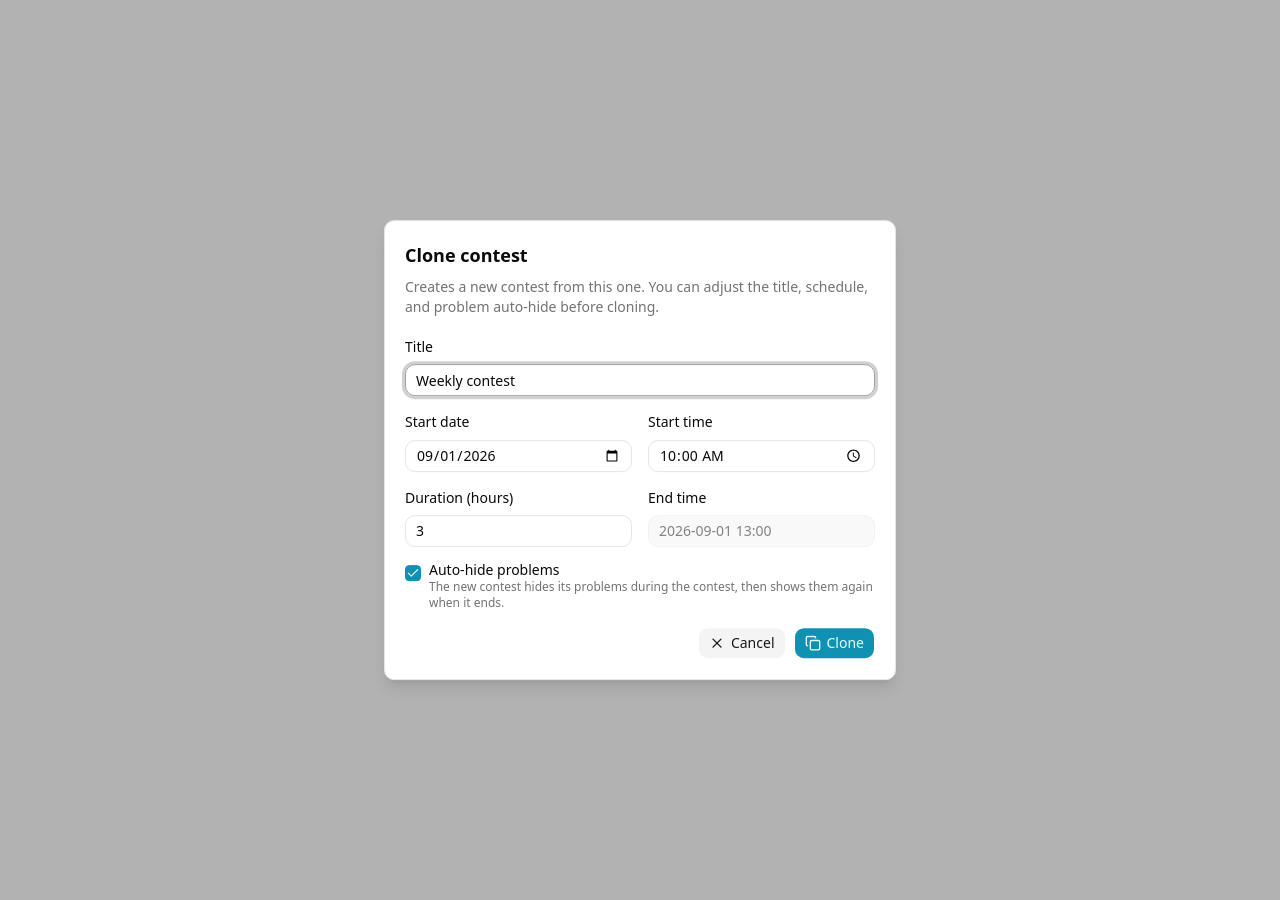
contest clone dialog › updates the end time preview while editing
The image size is (1280, 900).
Replace the text in the number field labelled "Duration (hours)" with "1.5". click: [518, 531]
box: [405,515,632,547]
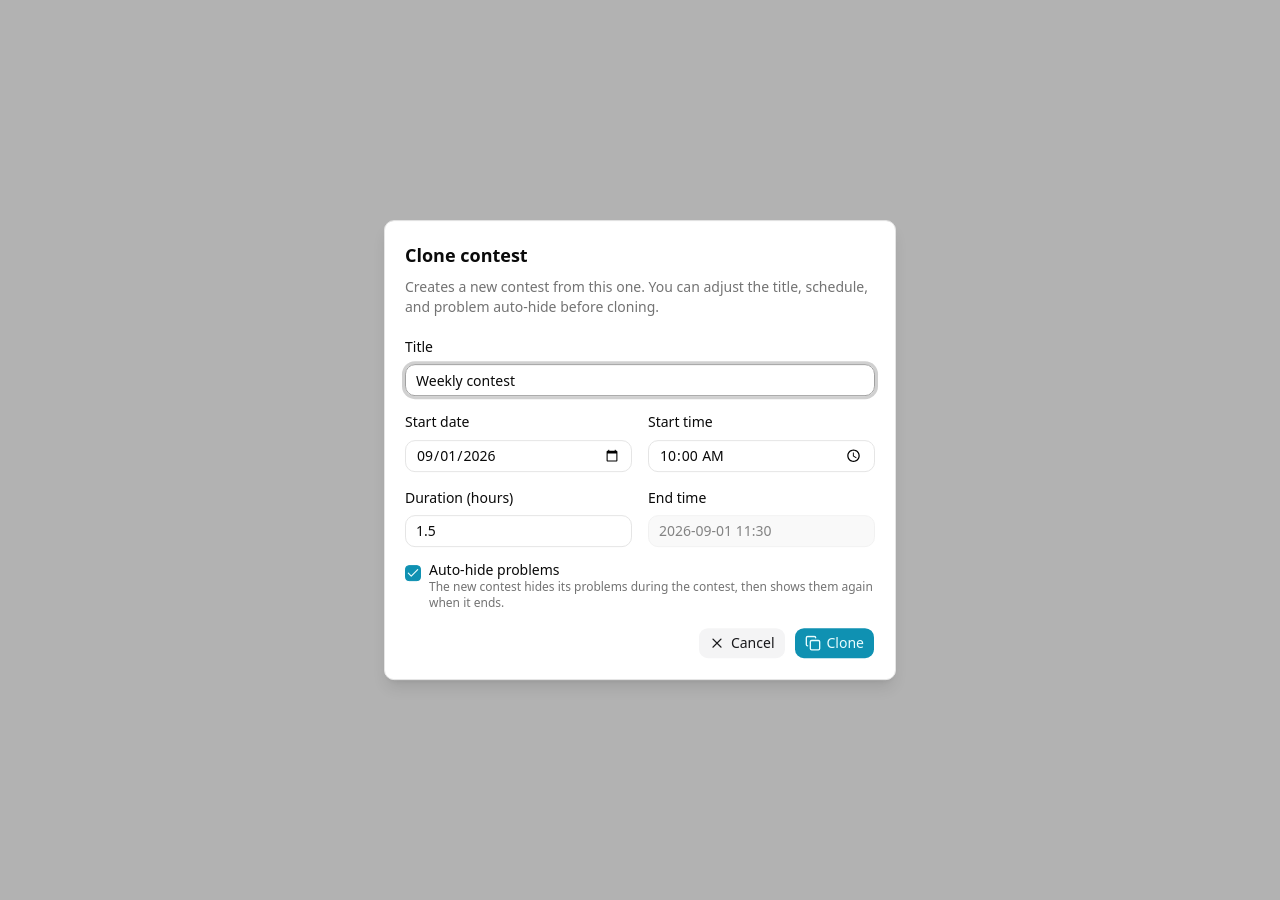
Expected: the field labelled "End time" holds "2026-09-01 11:30", [648,515,875,547]
